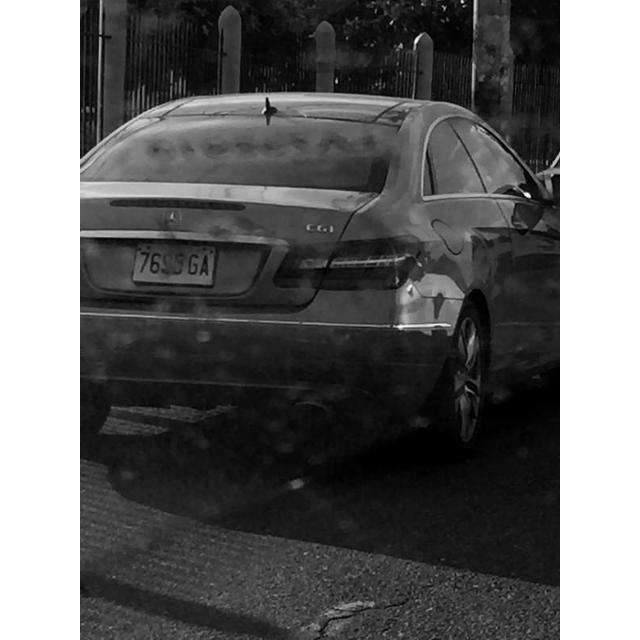rear-bumper-dent: (80, 290, 372, 398)
